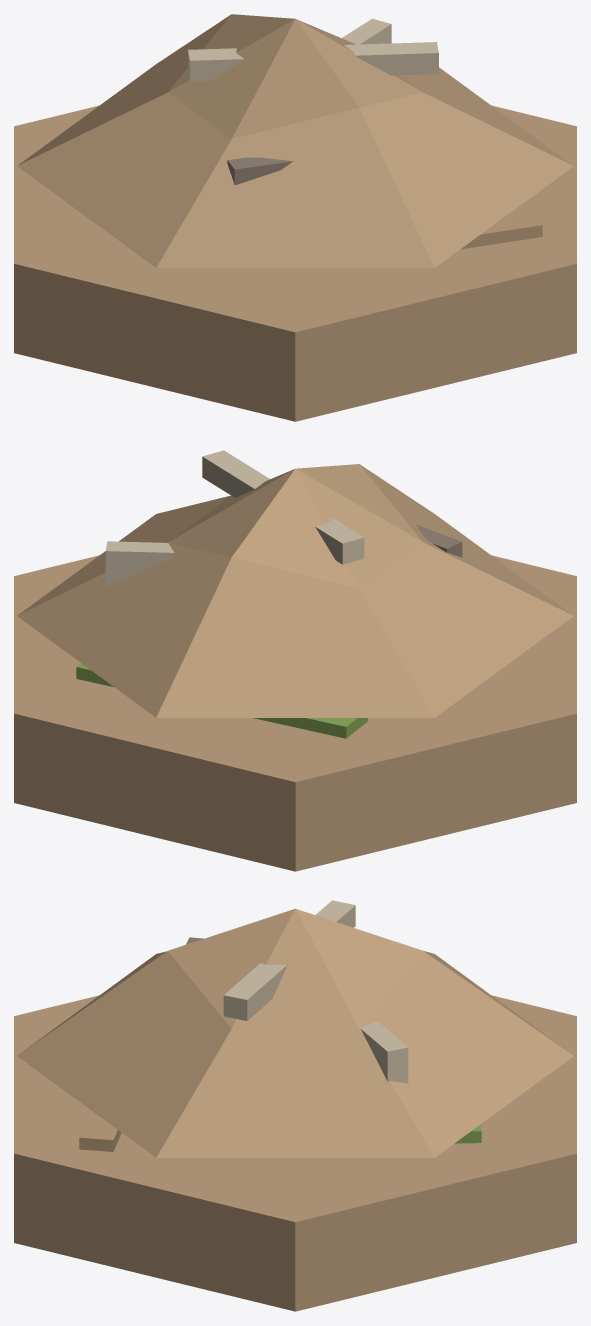
Rendered from terrain-hill-lod0.glb.
3 views of the same model, one above another, from view 1: azimuth 30°, elevation 25°; view 2: azimuth 150°, elevation 25°; view 3: azimuth 270°, elevation 25° (orthographic).
Parts seen in each view (by area): view 1: hill_slope, raised_hex_base, ridge_line, foot_blend_earth, rock_faces_front, rock_faces_side; view 2: hill_slope, raised_hex_base, ridge_line, rock_faces_side, foot_blend_grass, rock_faces_front; view 3: hill_slope, raised_hex_base, ridge_line, rock_faces_side, foot_blend_earth.
Boxes of the visible parts, bbox=[...] form: hill_slope: bbox=[17, 14, 573, 267]; raised_hex_base: bbox=[14, 105, 576, 421]; ridge_line: bbox=[188, 42, 438, 81]; foot_blend_earth: bbox=[461, 211, 542, 249]; rock_faces_front: bbox=[227, 157, 292, 185]; rock_faces_side: bbox=[342, 18, 391, 44]; hill_slope: bbox=[17, 464, 573, 717]; raised_hex_base: bbox=[14, 555, 576, 871]; ridge_line: bbox=[202, 450, 364, 564]; rock_faces_side: bbox=[105, 541, 174, 586]; foot_blend_grass: bbox=[76, 663, 367, 738]; rock_faces_front: bbox=[416, 524, 462, 557]; hill_slope: bbox=[17, 908, 573, 1157]; raised_hex_base: bbox=[14, 995, 576, 1311]; ridge_line: bbox=[223, 900, 355, 1020]; rock_faces_side: bbox=[360, 1021, 408, 1083]; foot_blend_earth: bbox=[79, 1110, 121, 1151].
Size of the model in its own units: 2.24 by 1.01 by 1.94.
